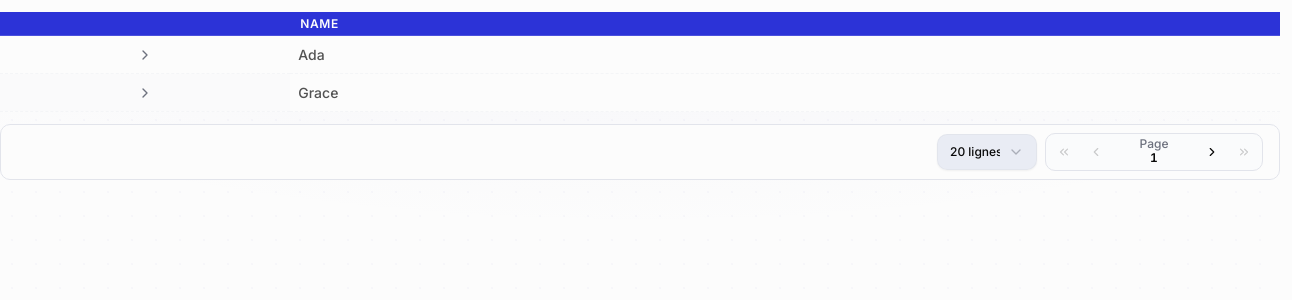
Test: DynamicTable behaviors › renders row-detail panels and toggles them from the expand column
Click the button named "Expand row 1" at (145, 54), box x1=135 y1=44 x2=155 y2=64
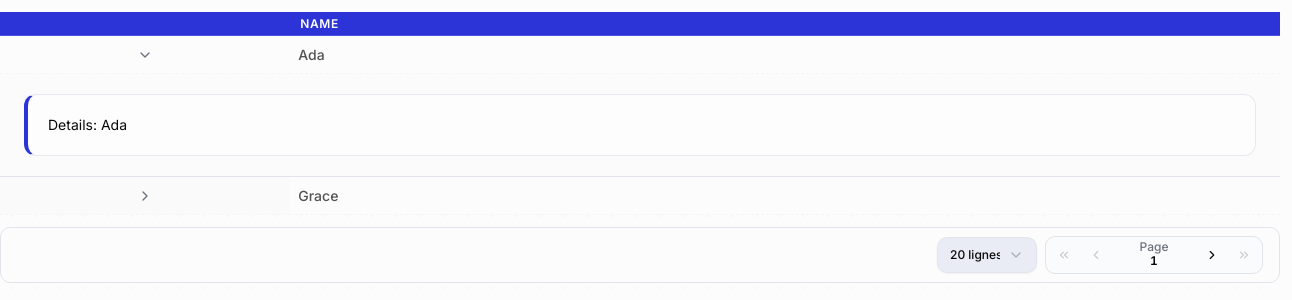
Expected: the text "Details: Ada" is shown, x1=48 y1=116 x2=127 y2=133
Click the button named "Collapse row 1" at (145, 54), box x1=135 y1=44 x2=155 y2=64
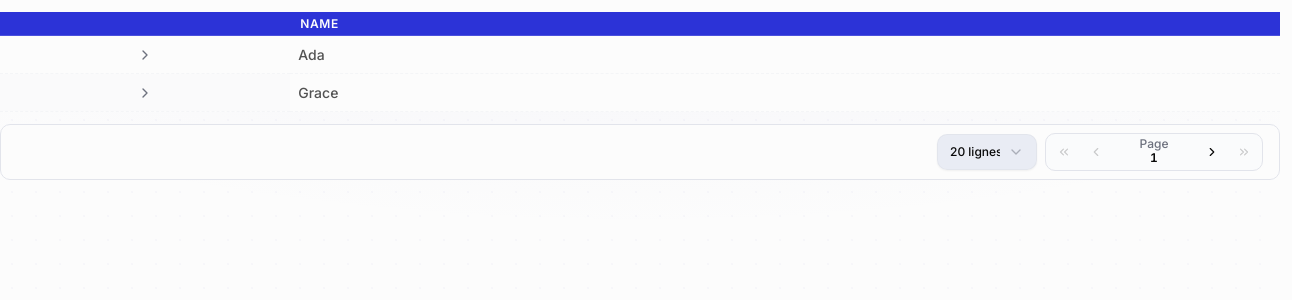
Expected: the text "Details: Ada" is gone
